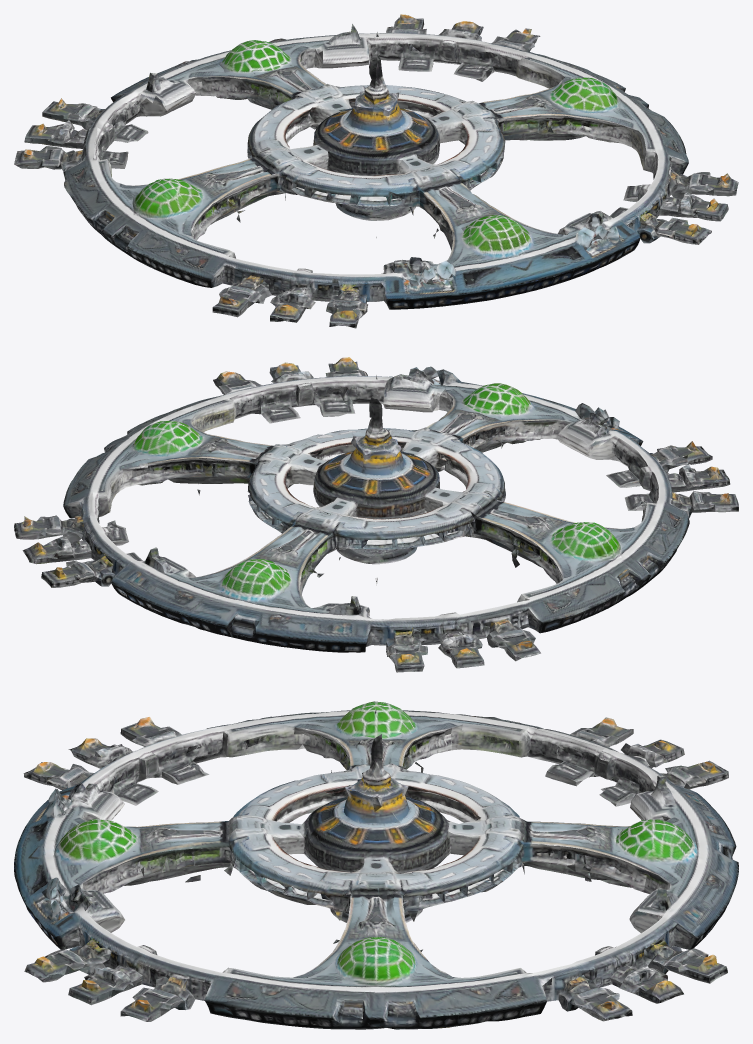
The model's file is battle-station-HJvnXQzi.glb.
3 renders of one model, top to bottom at view 1: azimuth 30°, elevation 25°; view 2: azimuth 150°, elevation 25°; view 3: azimuth 270°, elevation 25°, orthographic. The views are drawn at different scales.
Visible parts, largest first — view 1: output; view 2: output; view 3: output.
Part boxes in pixels (x1,y1,x2,y2): output: (14,14,738,328); output: (14,357,738,672); output: (14,701,738,1029).
Size of the model in its own units: 1.91 by 0.7155 by 1.91.
1 material, 1 textured.
